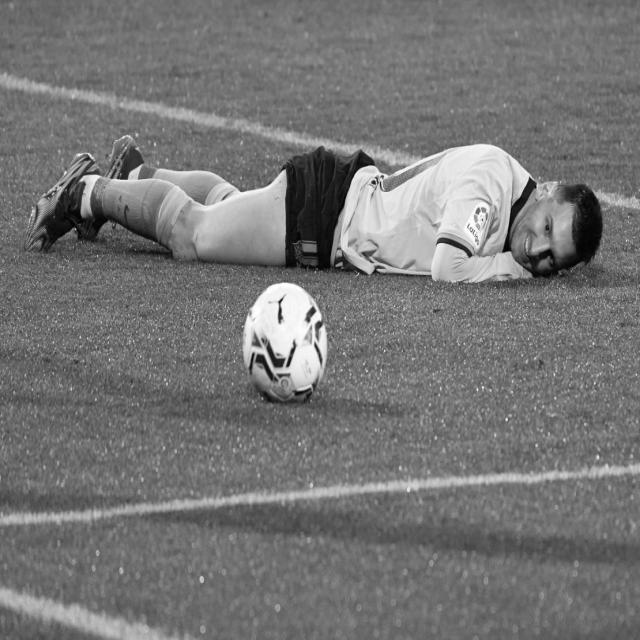football: (240, 276, 330, 409)
